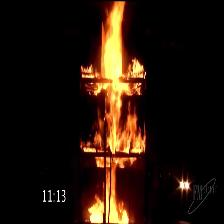fire: (81, 1, 147, 224)
